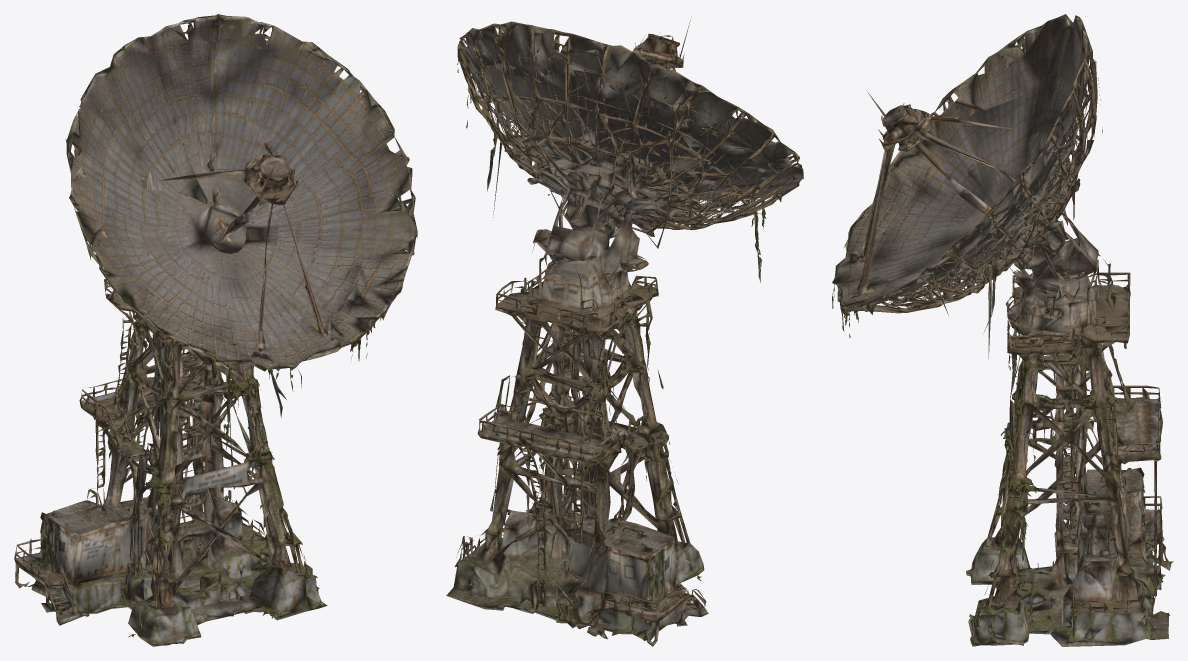
The model's file is radar_dish.glb.
The picture shows the model from 3 angles, left to right: view 1: azimuth 30°, elevation 25°; view 2: azimuth 150°, elevation 25°; view 3: azimuth 270°, elevation 25°; orthographic projection.
Parts seen in each view (by area): view 1: radar_dish; view 2: radar_dish; view 3: radar_dish.
Boxes of the visible parts, x1,y1,x2,y2 form: radar_dish: (14,14,417,646); radar_dish: (446,20,803,646); radar_dish: (832,14,1173,646).
Bounding box in the file's own units: 115 × 190 × 104.
1 material, 1 textured.
